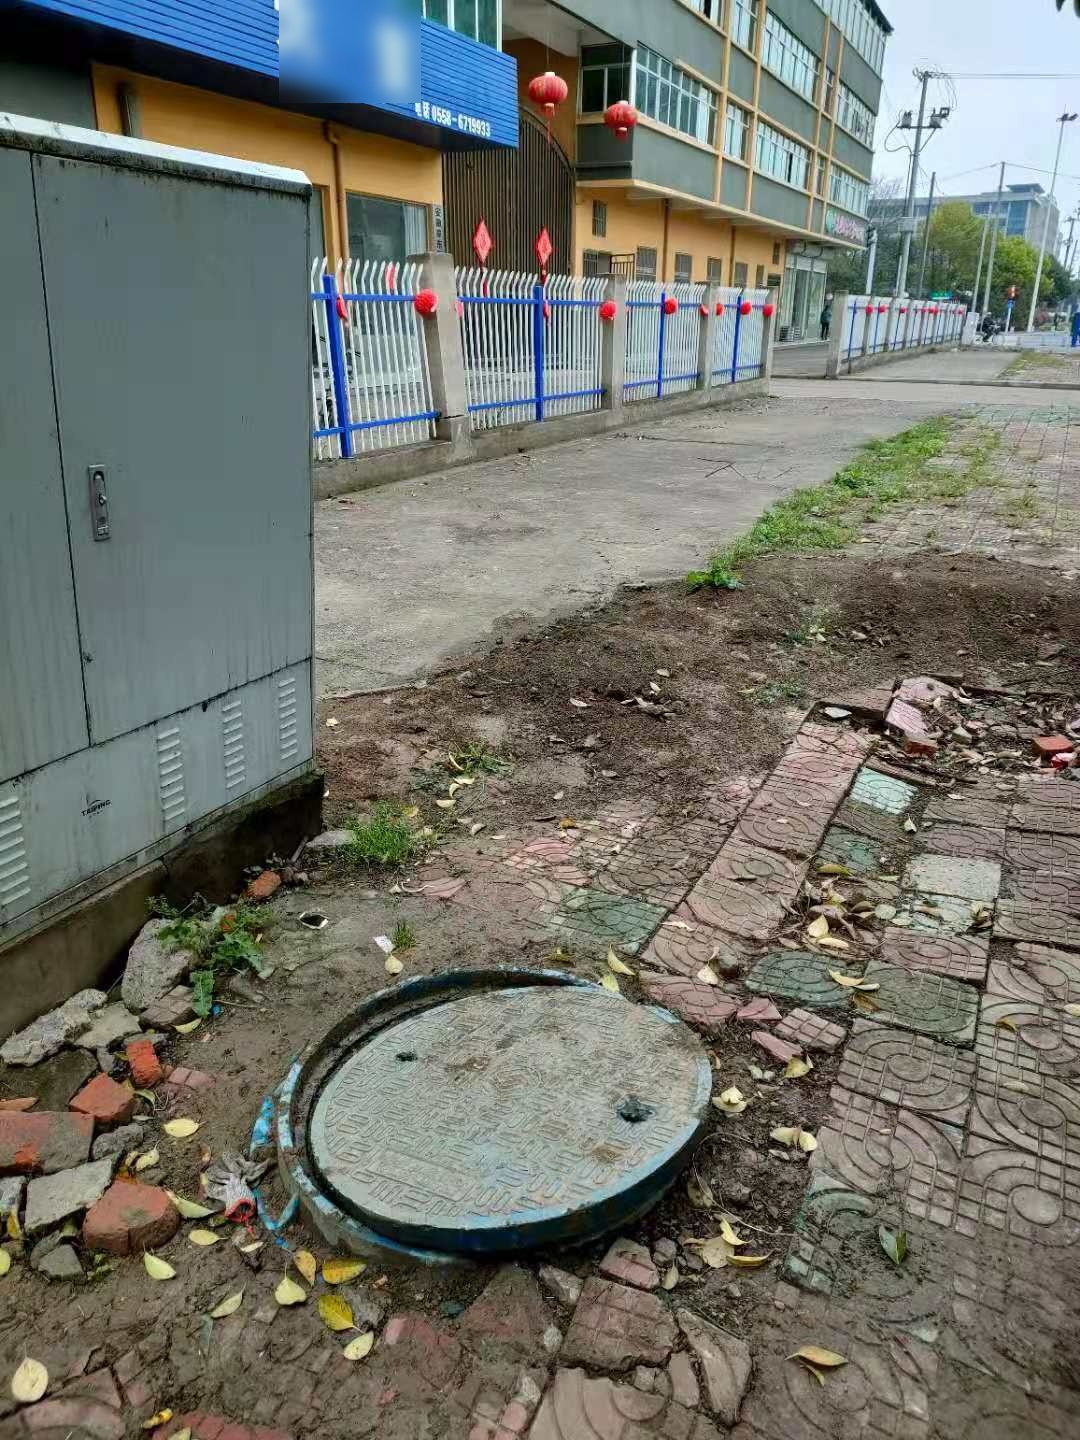well: (263, 960, 723, 1256)
